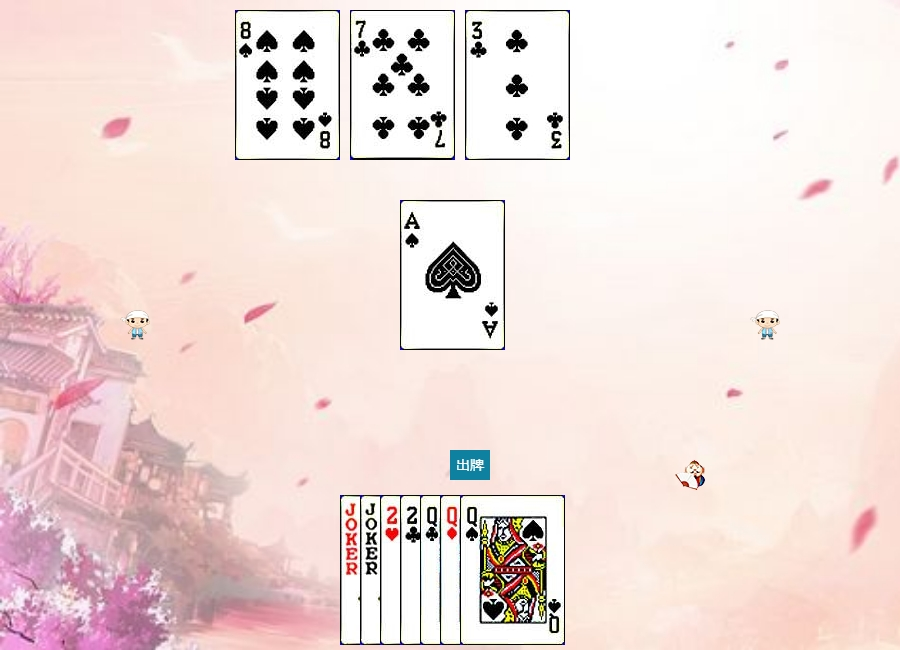12~1: (440, 495, 545, 645)
12~2: (420, 495, 525, 645)
12~4: (460, 495, 565, 645)
14~4: (400, 200, 505, 350)
15~2: (400, 495, 505, 645)
15~3: (380, 495, 485, 645)
17~3: (360, 495, 465, 645)
18~4: (340, 495, 445, 645)
3~2: (465, 10, 570, 160)
7~2: (350, 10, 455, 160)
8~4: (235, 10, 340, 160)
